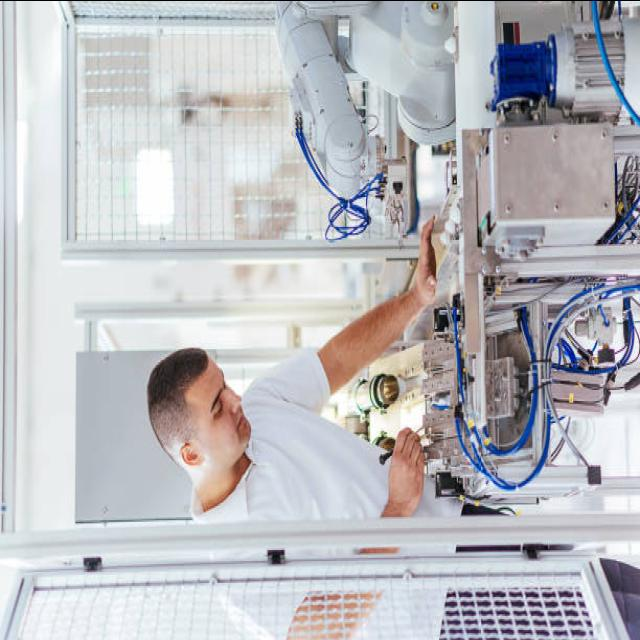Robotic-arm: (264, 0, 466, 226)
